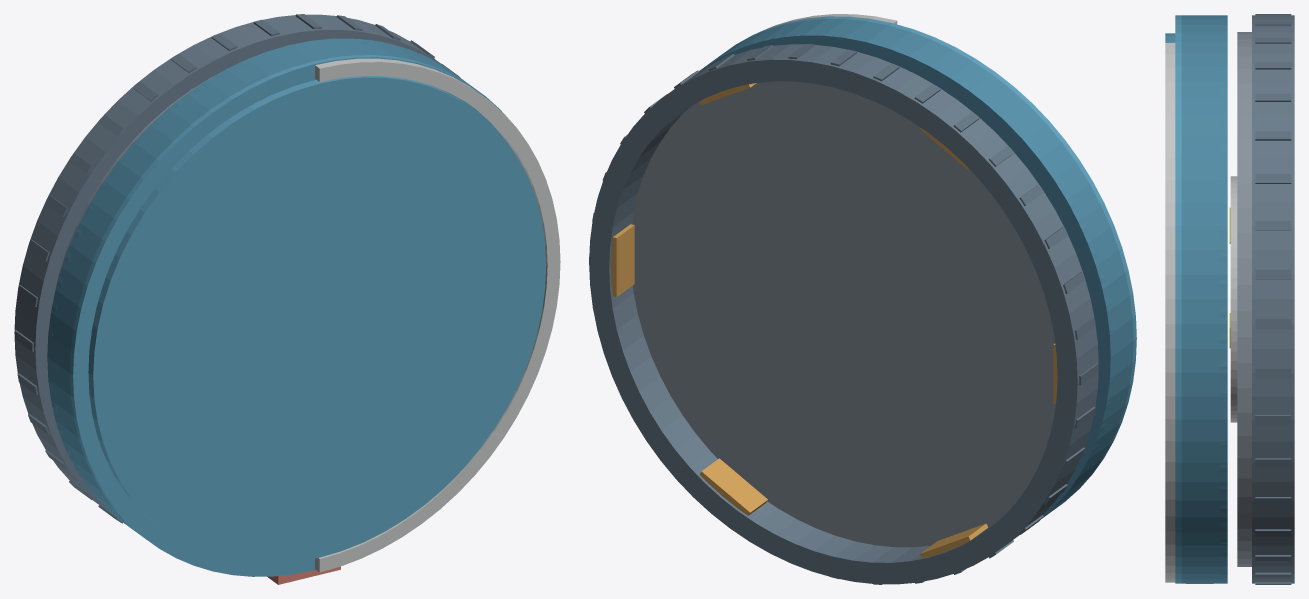
File: cap_gripper_wide_63_1p1x.glb
The picture shows the model from 3 angles, left to right: view 1: azimuth 30°, elevation 25°; view 2: azimuth 150°, elevation 25°; view 3: azimuth 270°, elevation 25°; orthographic projection.
Visible parts, largest first — view 1: top_lid, compression_collar, puck_shell_wall, top_lid_skirt, folding_bail, puck_shell_floor; view 2: chuck_hub, compression_collar, puck_shell_wall, puck_shell_floor, top_lid_skirt, collet_petal_5, collet_petal_0, collet_petal_4; view 3: puck_shell_wall, compression_collar, chuck_hub, folding_bail, top_lid_skirt, flexure_outer_ring, puck_shell_floor, rib_1, rib_2, rib_3, rib_4, rib_0 (+11 smaller).
Part boxes in pixels (left/top/right/bottom): top_lid: left=88, top=76, right=546, bottom=563; compression_collar: left=14, top=14, right=448, bottom=516; puck_shell_wall: left=47, top=38, right=473, bottom=534; top_lid_skirt: left=70, top=55, right=502, bottom=576; folding_bail: left=315, top=58, right=560, bottom=572; puck_shell_floor: left=48, top=38, right=445, bottom=506; chuck_hub: left=632, top=81, right=1055, bottom=547; compression_collar: left=589, top=44, right=1098, bottom=584; puck_shell_wall: left=701, top=18, right=1133, bottom=518; puck_shell_floor: left=699, top=32, right=1113, bottom=505; top_lid_skirt: left=733, top=16, right=1136, bottom=502; collet_petal_5: left=699, top=458, right=767, bottom=515; collet_petal_0: left=611, top=224, right=634, bottom=296; collet_petal_4: left=920, top=523, right=988, bottom=557; puck_shell_wall: left=1181, top=15, right=1227, bottom=583; compression_collar: left=1252, top=15, right=1294, bottom=583; chuck_hub: left=1237, top=32, right=1251, bottom=566; folding_bail: left=1165, top=43, right=1175, bottom=582; top_lid_skirt: left=1175, top=15, right=1181, bottom=583; flexure_outer_ring: left=1230, top=176, right=1237, bottom=422; puck_shell_floor: left=1219, top=15, right=1227, bottom=583; rib_1: left=1255, top=368, right=1291, bottom=378; rib_2: left=1255, top=319, right=1291, bottom=329; rib_3: left=1255, top=269, right=1291, bottom=279; rib_4: left=1255, top=220, right=1291, bottom=230; rib_0: left=1255, top=415, right=1291, bottom=424.
Bounding box in the file's own units: 69.75 × 71.03 × 15.75.
